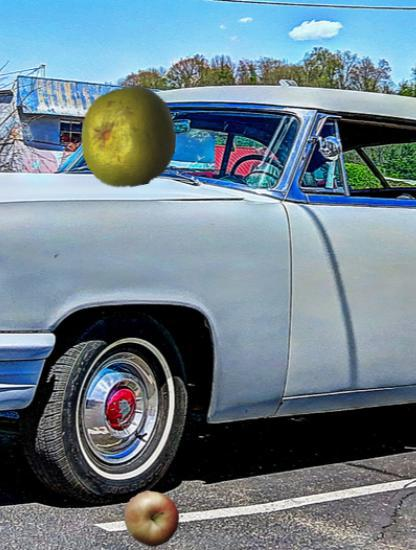Apple: (123, 490, 181, 548)
Pomelo: (77, 86, 179, 188)
